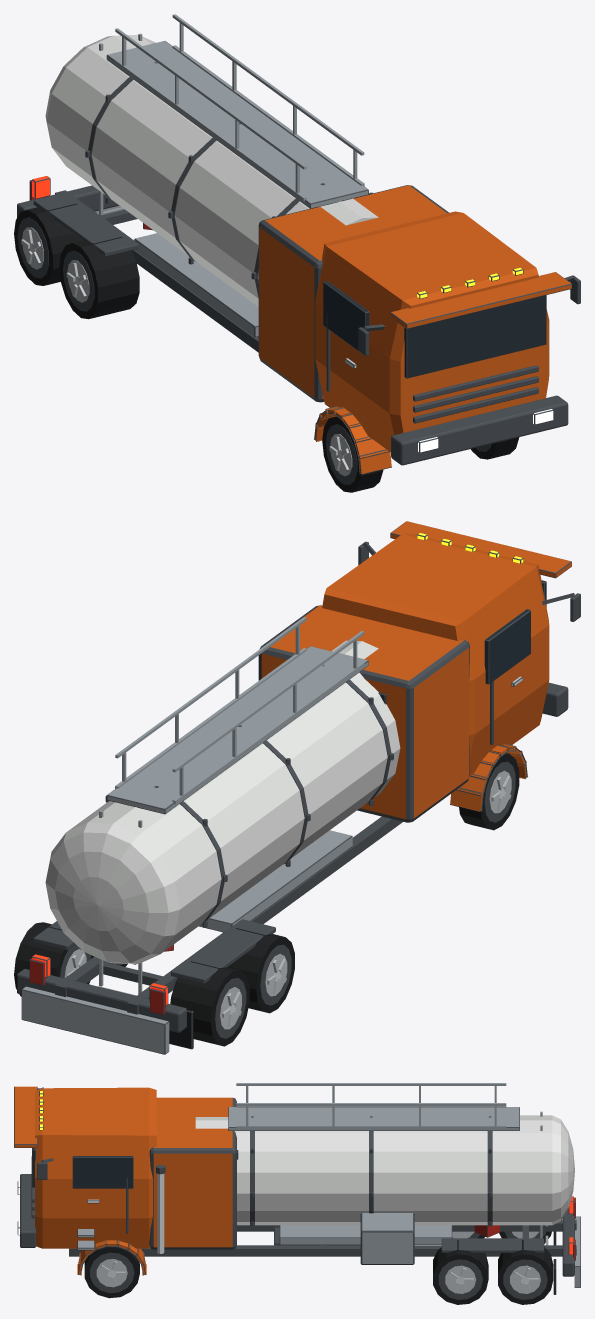
Rendered from veh_fuel_tanker.glb.
3 renders of one model, top to bottom at view 1: azimuth 30°, elevation 25°; view 2: azimuth 150°, elevation 25°; view 3: azimuth 270°, elevation 25°, orthographic. The views are drawn at different scales.
Visible parts, largest first — view 1: veh_fuel_tanker; view 2: veh_fuel_tanker; view 3: veh_fuel_tanker.
Part boxes in pixels (x1,y1,x2,y2): veh_fuel_tanker: (14,14,580,492); veh_fuel_tanker: (14,521,580,1054); veh_fuel_tanker: (14,1083,580,1304).
Size of the model in its own units: 3.35 by 3.62 by 10.49.
